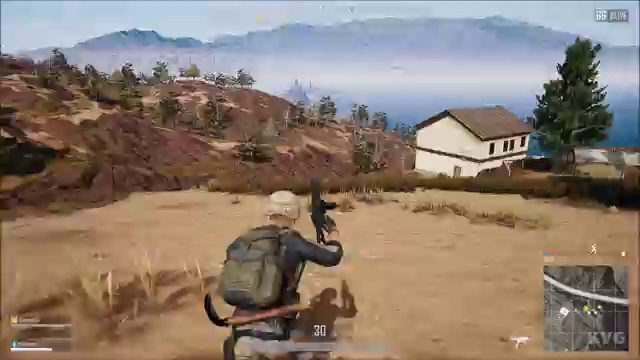Player: (192, 184, 378, 311)
